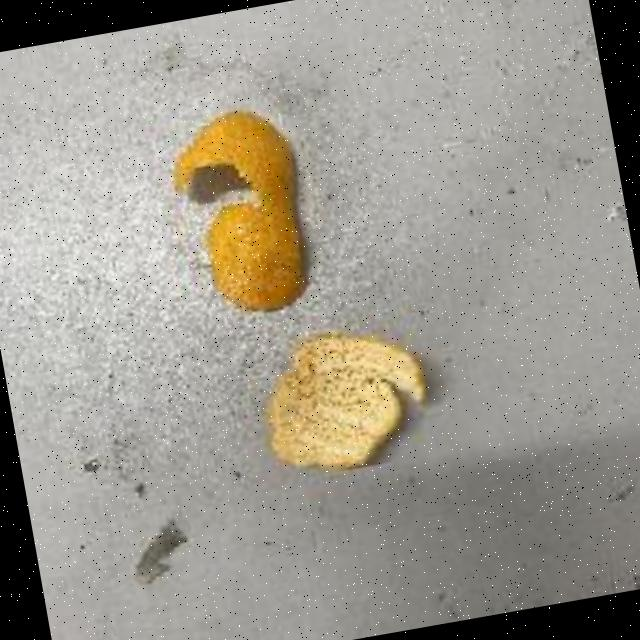orange-peel: (159, 98, 322, 324)
